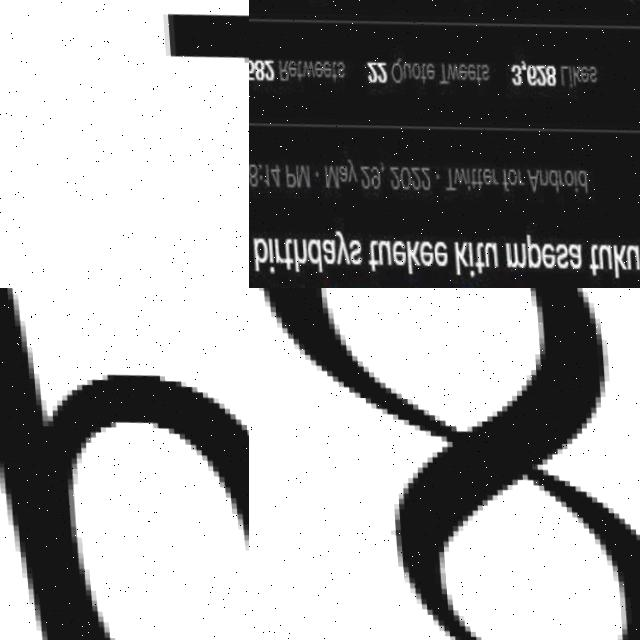0: (269, 162, 281, 190)
1: (249, 57, 255, 81)
2: (526, 57, 538, 81)
4: (544, 57, 558, 81), (253, 57, 265, 81), (249, 162, 259, 186)
5: (370, 161, 382, 189)
8: (249, 288, 640, 640)
J: (157, 0, 249, 288)
